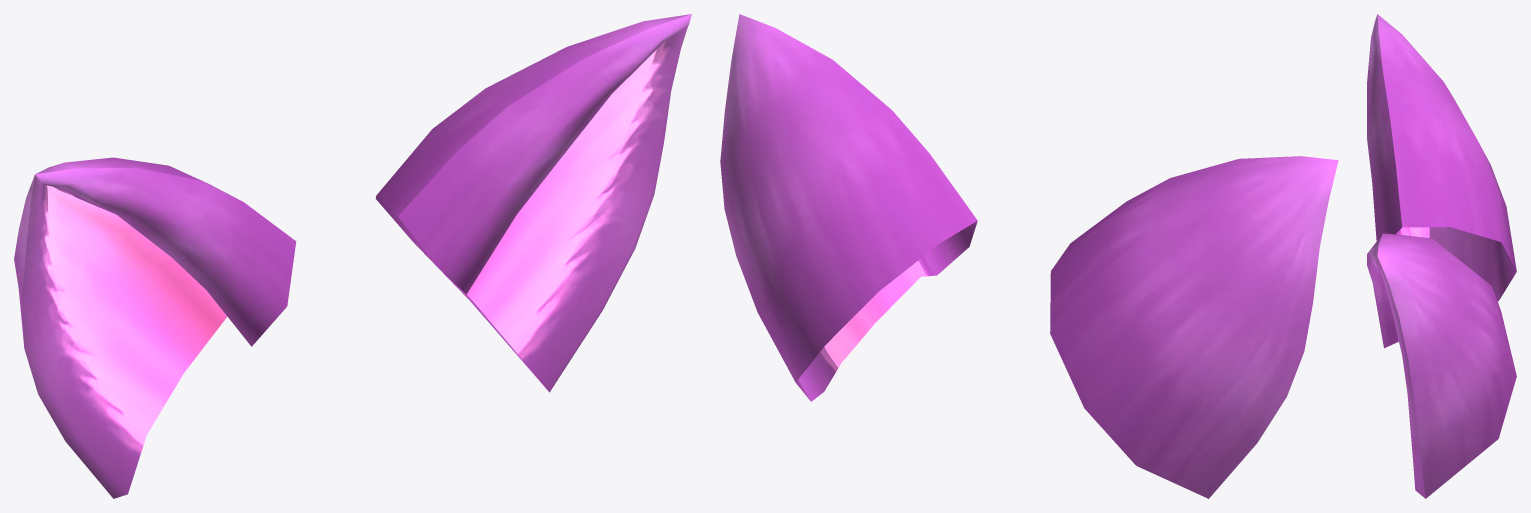
Rendered from aphmau_cat_ears.glb.
3 renders of one model, left to right at view 1: azimuth 30°, elevation 25°; view 2: azimuth 150°, elevation 25°; view 3: azimuth 270°, elevation 25°, orthographic. The views are drawn at different scales.
Parts seen in each view (by area): view 1: Object_0; view 2: Object_0; view 3: Object_0.
Boxes of the visible parts, bbox=[...] form: Object_0: bbox=[14, 14, 691, 498]; Object_0: bbox=[720, 14, 1338, 498]; Object_0: bbox=[1367, 14, 1516, 498].
Size of the model in its own units: 0.4928 by 0.2688 by 0.1288.
